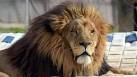lion: (4, 4, 113, 76)
